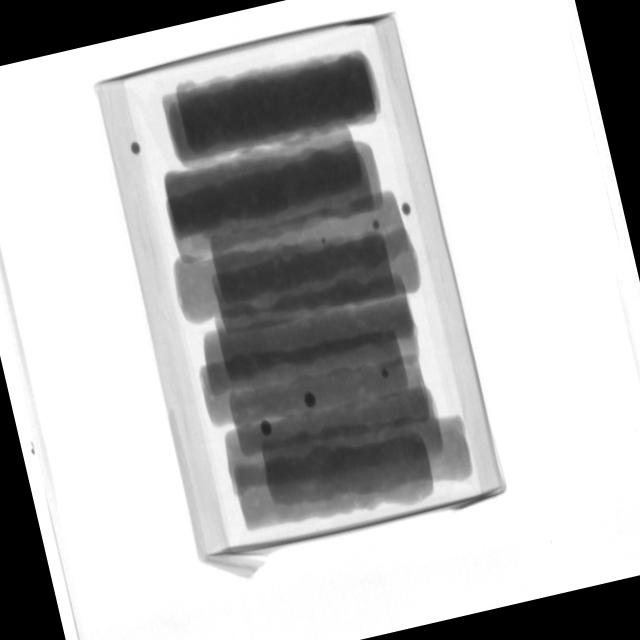ym: (303, 391, 318, 410), (261, 419, 275, 438), (131, 141, 143, 155), (401, 201, 412, 214), (372, 220, 381, 230), (381, 369, 390, 379), (323, 238, 329, 244)
